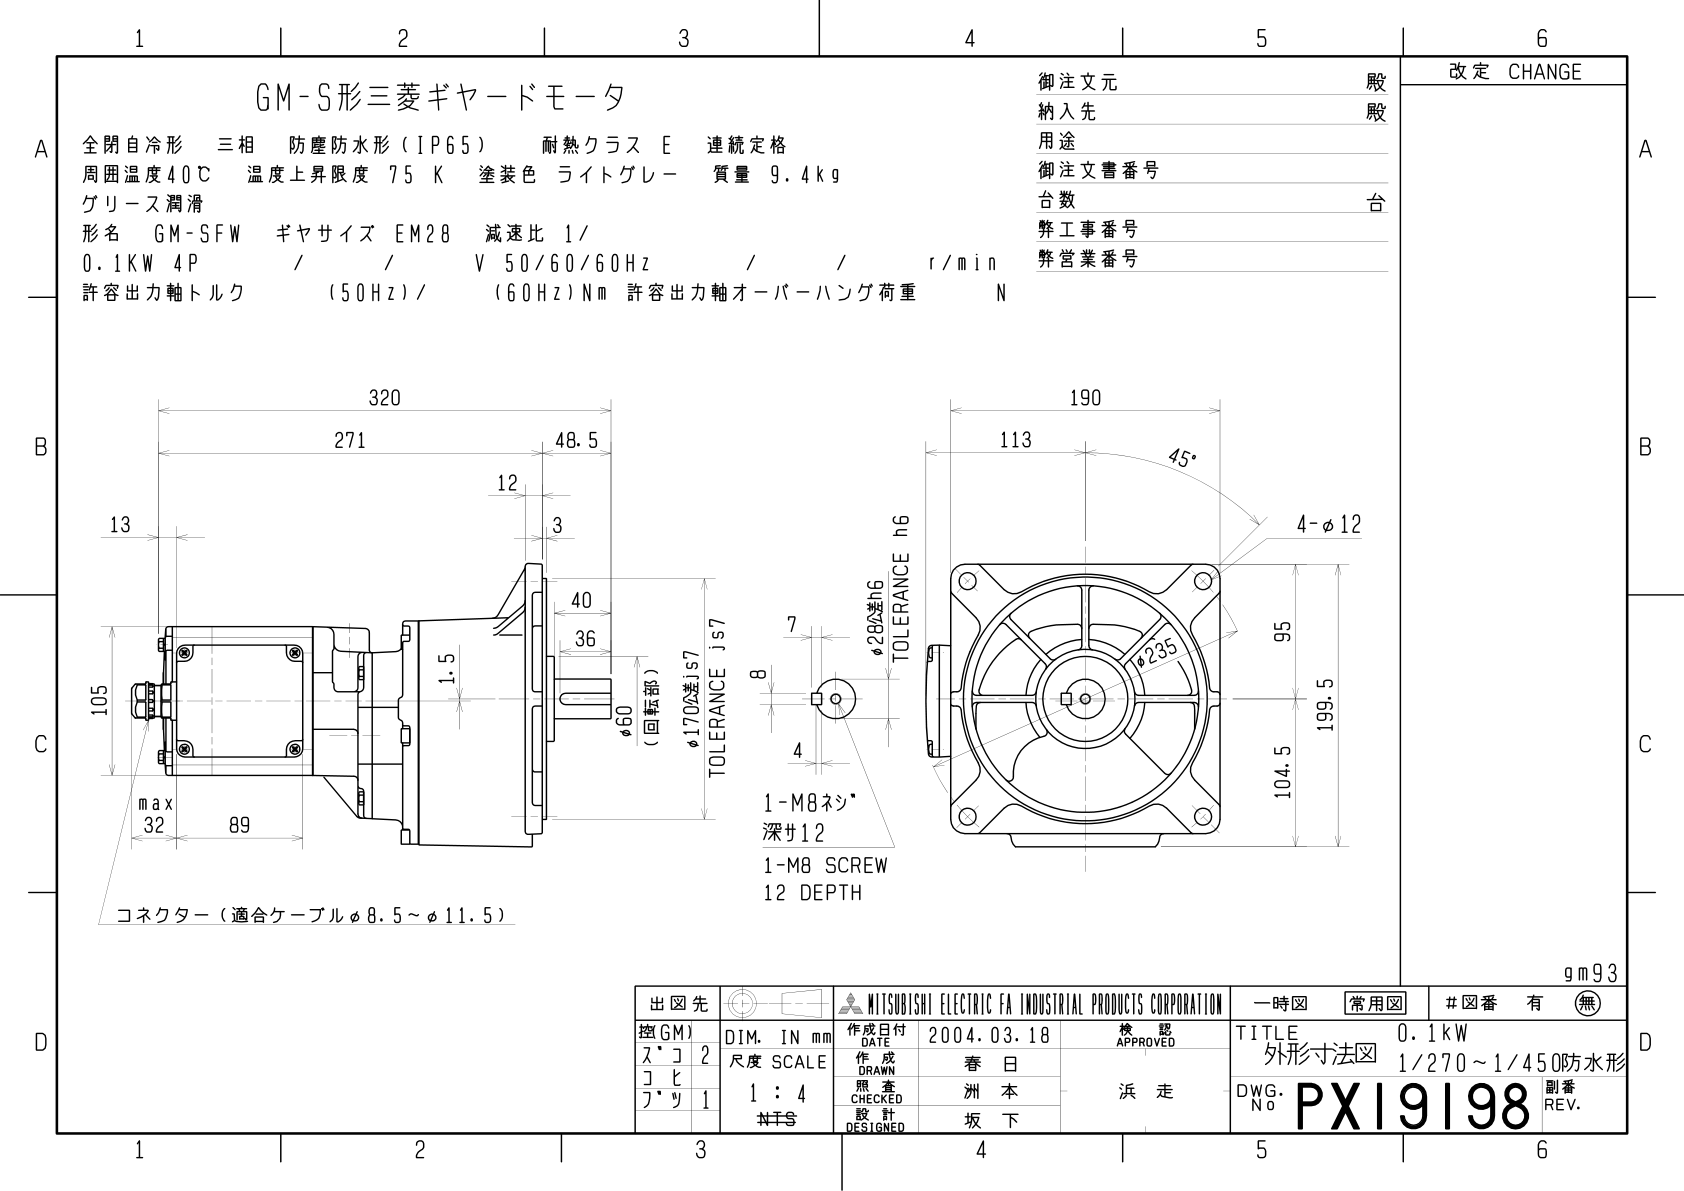GM_S_IP65＿三相_フランジ: (85, 354, 1383, 953)
